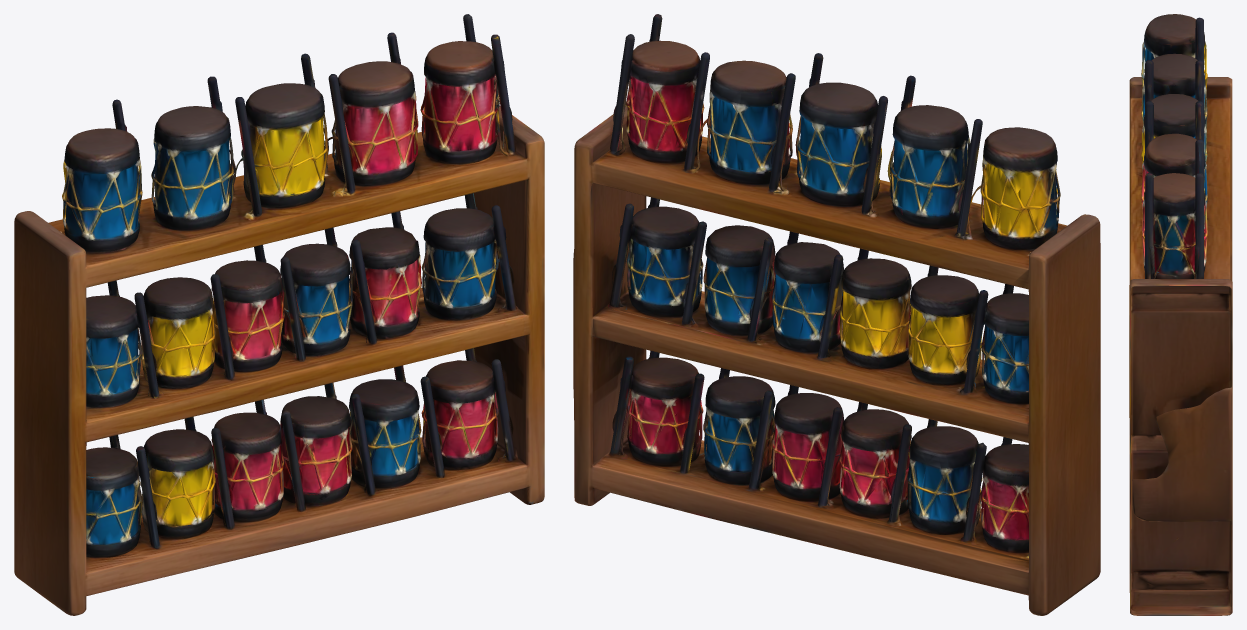
The model's file is Mostradordrums.glb.
3 views of the same model, side by side, from view 1: azimuth 30°, elevation 25°; view 2: azimuth 150°, elevation 25°; view 3: azimuth 270°, elevation 25° (orthographic). The views are drawn at different scales.
Visible parts, largest first — view 1: node_0; view 2: node_0; view 3: node_0.
Boxes of the visible parts, x1,y1,x2,y2 form: node_0: (14,14,544,615); node_0: (573,14,1100,615); node_0: (1129,14,1232,615).
Size of the model in its own units: 0.8703 by 0.8182 by 0.1796.
Materials: 1 (1 with a texture image).
